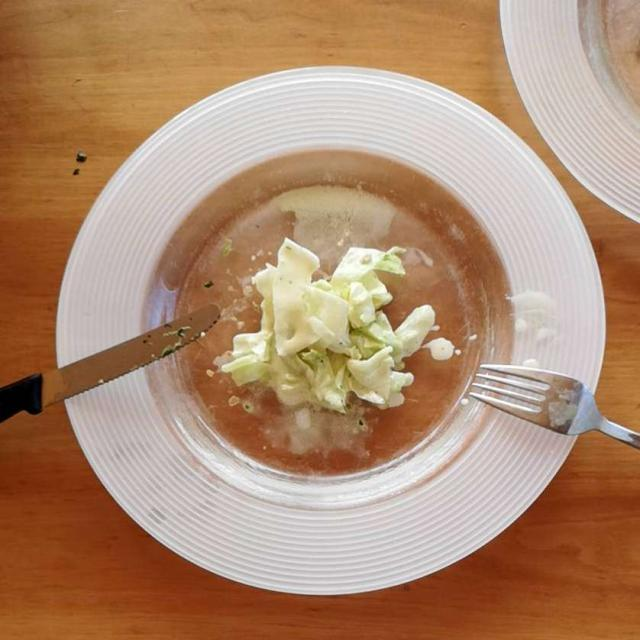salad: (218, 238, 467, 422)
